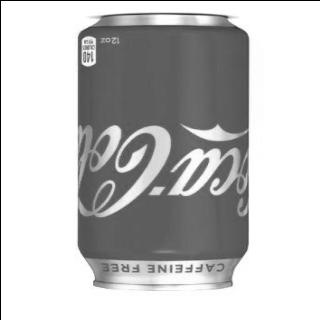alumunium_can: (74, 11, 250, 290)
